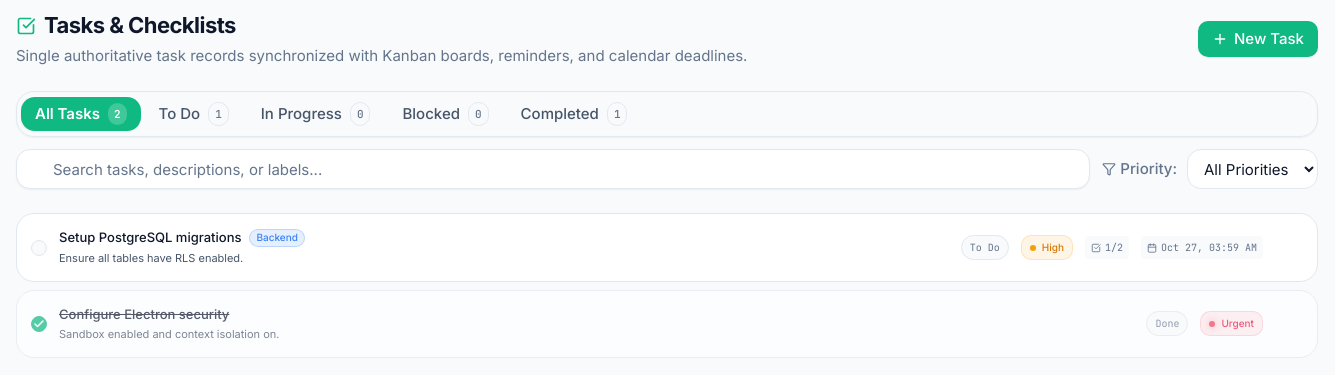
Test: káno̱ Desktop Tasks & Checklists › filters tasks by status tab
Expected: the text "Setup PostgreSQL migrations" is shown, [59,228,242,248]
// Click "Completed" tab
Step 1. Click the button "Completed 1" → (574, 114), box [507,96,642,132]
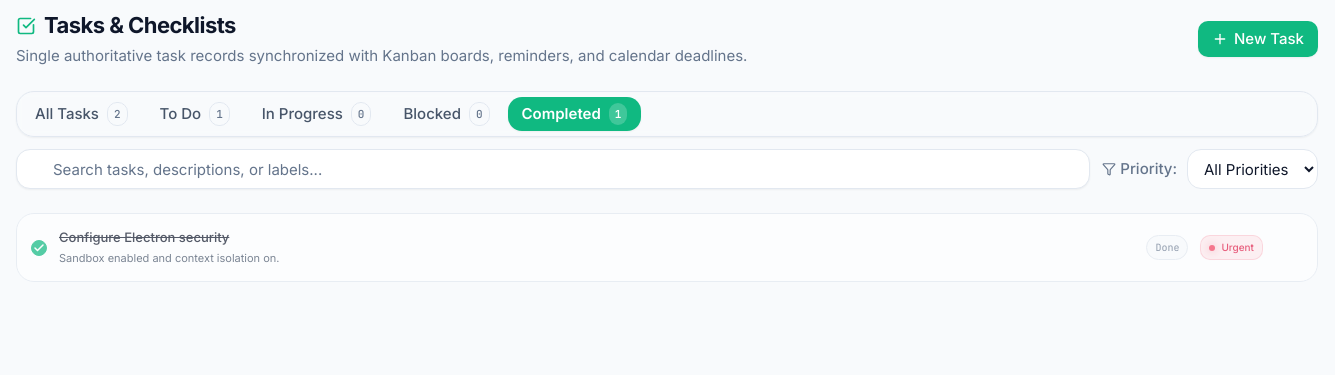
Expected: the text "Configure Electron security" is shown, [59,228,229,248]
Now the text "Setup PostgreSQL migrations" is gone
// Click "To Do" tab
Step 2. Click the button "To Do 1" → (195, 114), box [146,96,244,132]
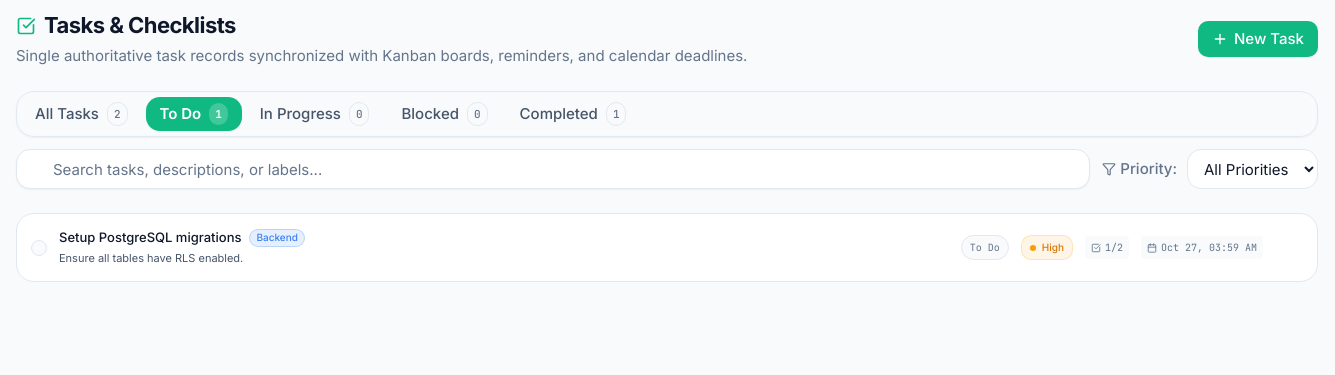
Now the text "Setup PostgreSQL migrations" is shown, box [59,228,242,248]
Now the text "Configure Electron security" is gone
